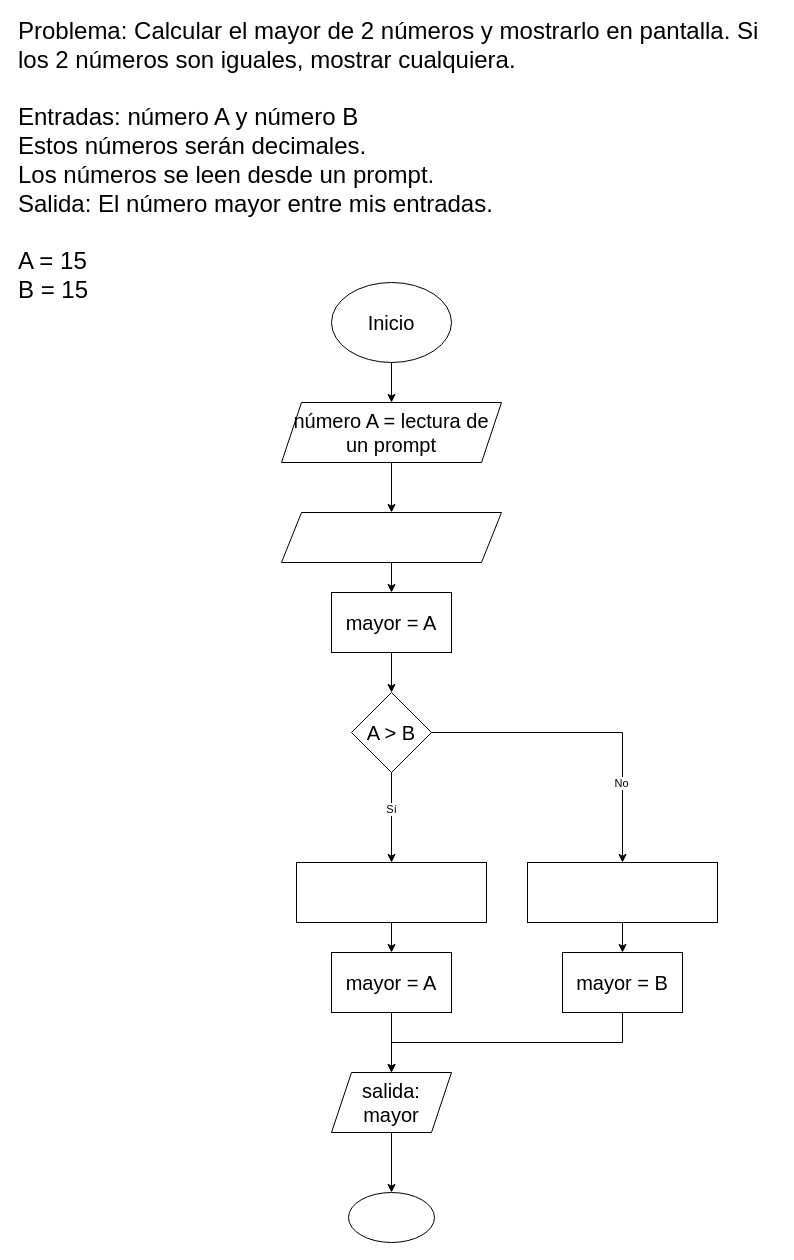
Some shapes in this 794 by 1260 pixel diagram are drawn without their labels. Here are the shapes that lost their labels. From the top down, the centre of each, then its label:
point (391, 537): número B = lectura de un prompt
point (391, 892): Mostrar en pantalla el valor A
point (622, 892): Mostrar en pantalla el valor B
point (391, 1217): fin
